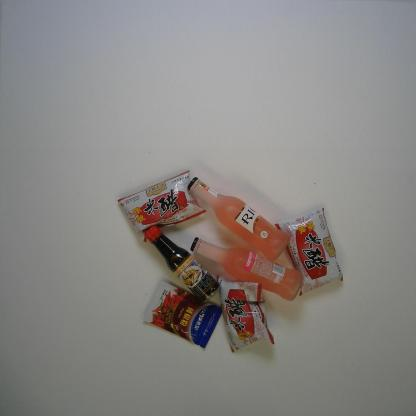Alcohol: (186, 176, 291, 262), (189, 236, 304, 302)
Seasoner: (117, 169, 207, 243), (273, 206, 344, 298), (143, 224, 221, 304), (141, 280, 224, 349), (216, 274, 276, 354)
